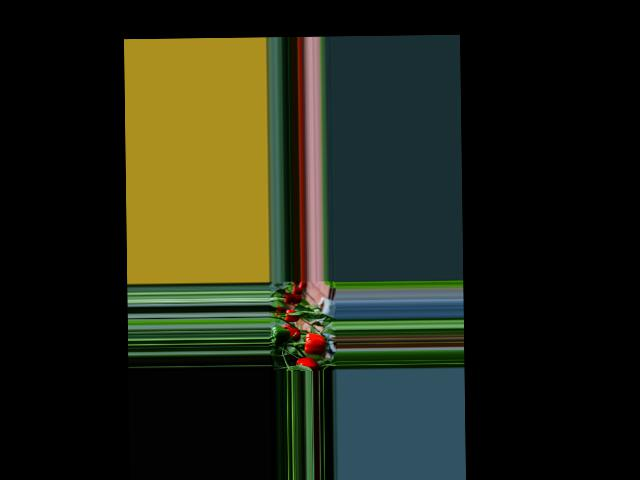bell_pepper: (281, 308, 303, 322)
